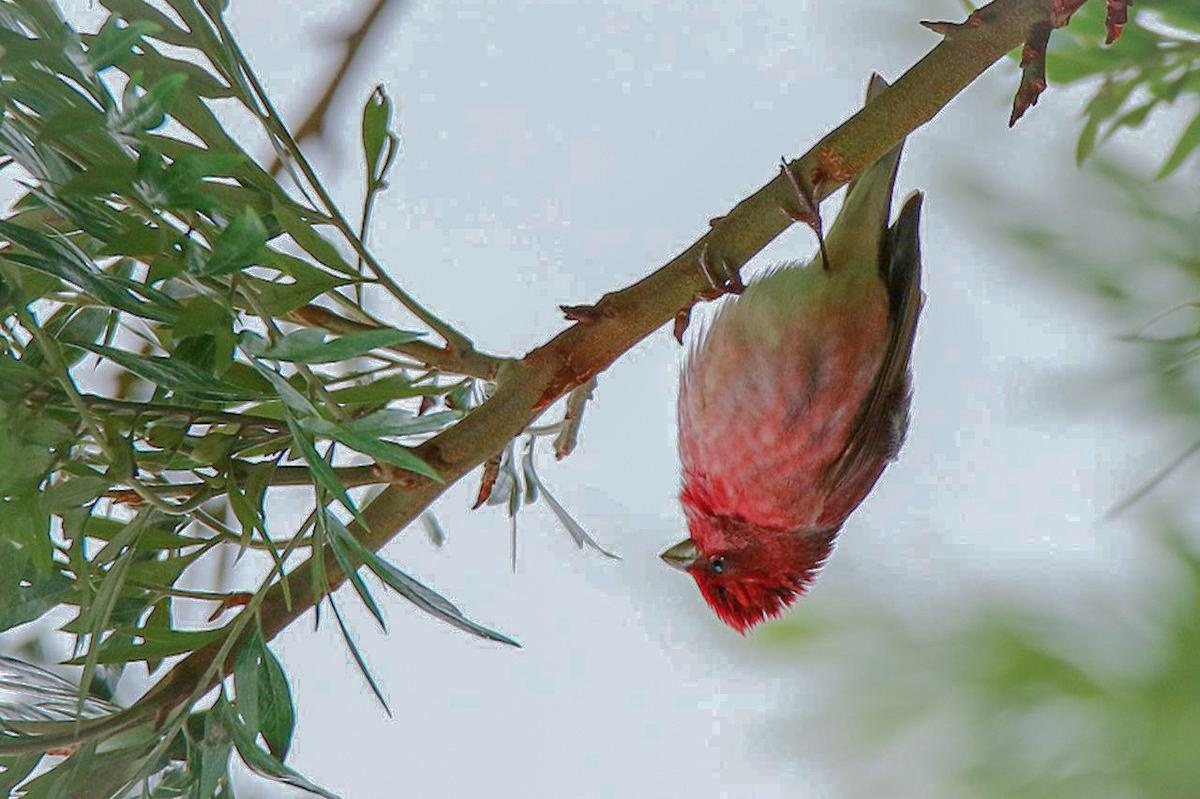rosefinch: (654, 153, 959, 674)
